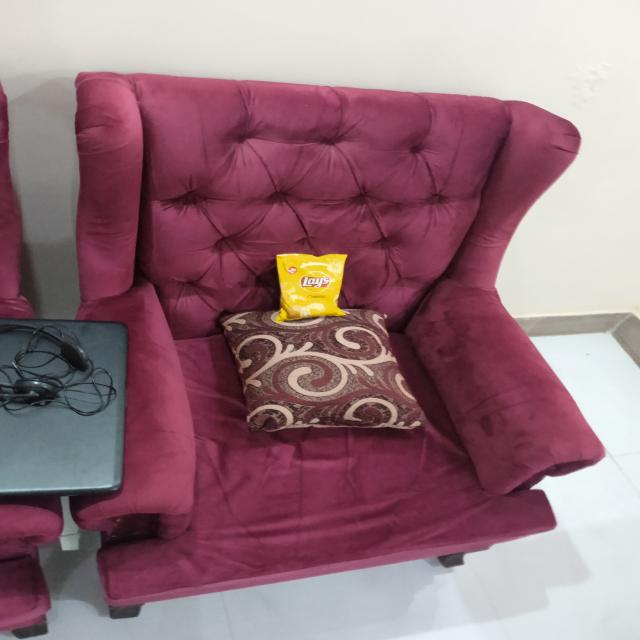Plastic: (275, 251, 354, 319)
